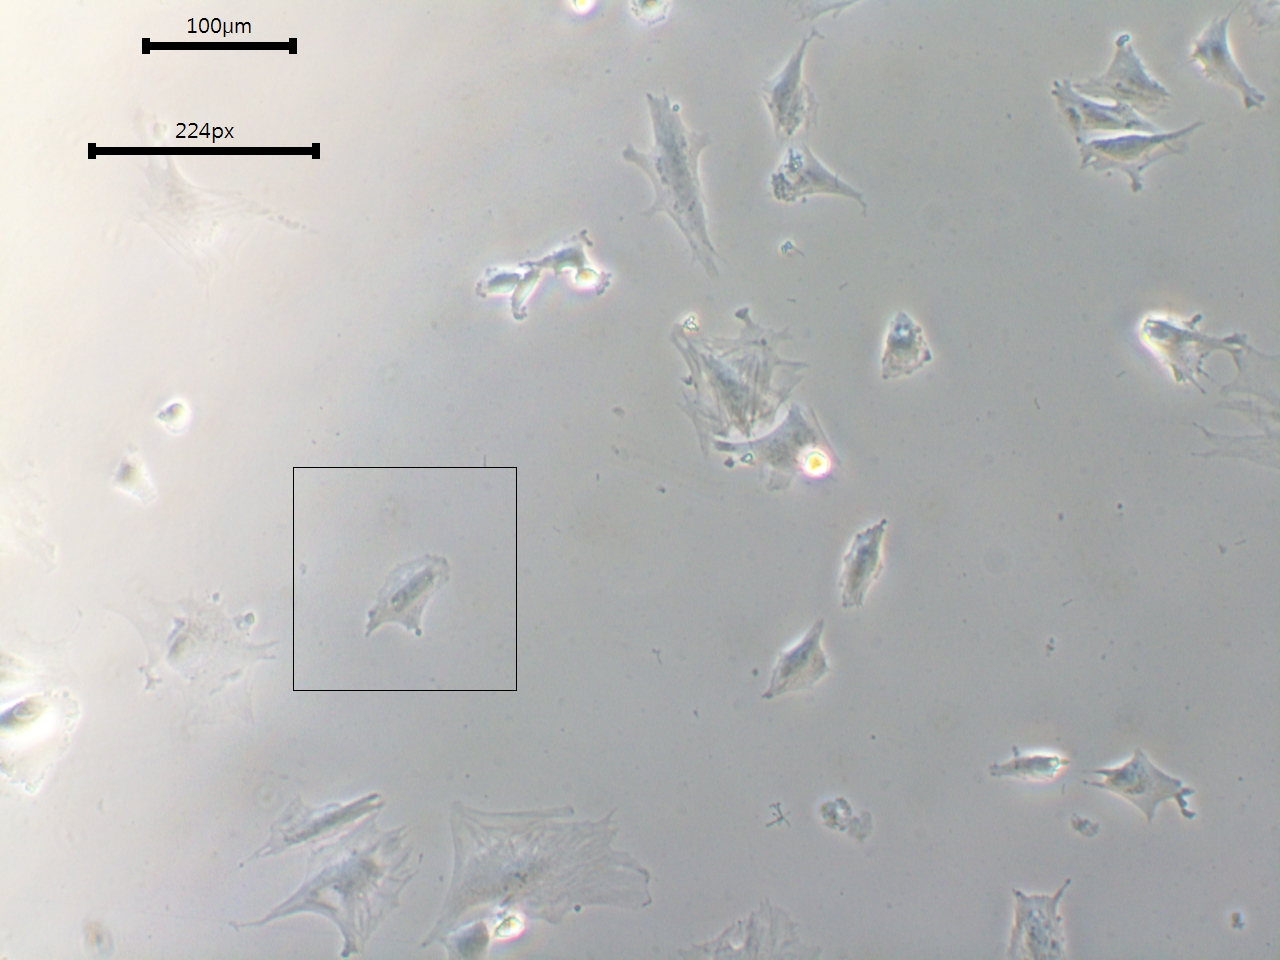medium-polygonal: (359, 550, 454, 649)
small-polygonal: (830, 518, 896, 615), (971, 746, 1075, 800)
small-spread: (1086, 746, 1194, 822), (757, 617, 834, 706), (875, 311, 932, 400)
